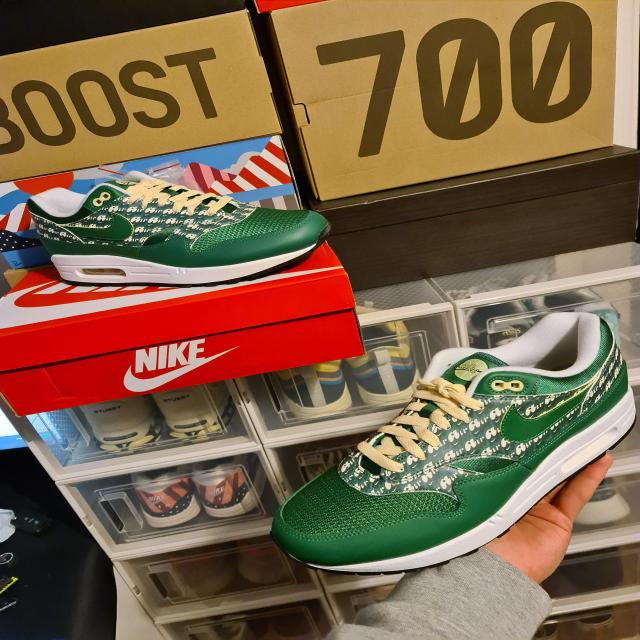shoe: (262, 291, 640, 598), (15, 166, 351, 304)
